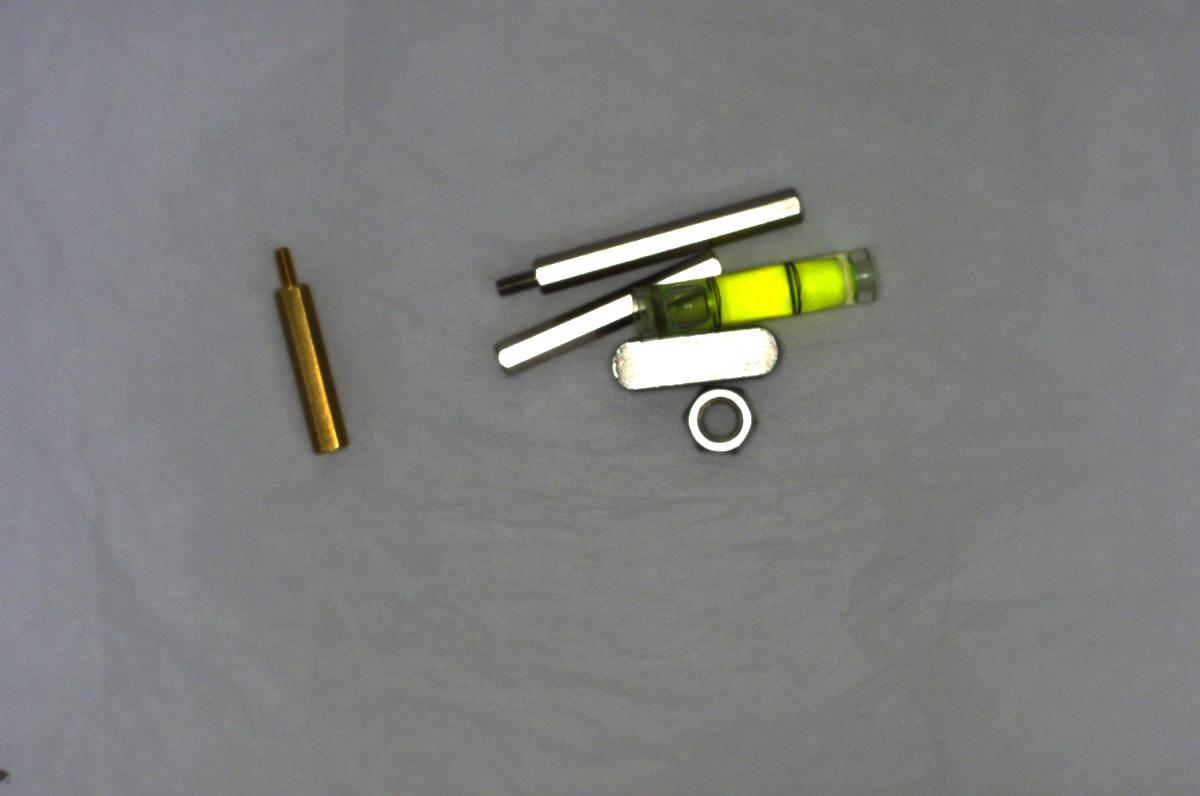Double hexagonal column: (494, 250, 726, 377)
Hexagon nut: (665, 380, 764, 465)
Hexagon pillar: (266, 239, 353, 460)
Hexagonal steel column: (491, 177, 826, 303)
Horizontal bubble: (633, 241, 882, 328)
Keybar: (594, 323, 789, 396)
